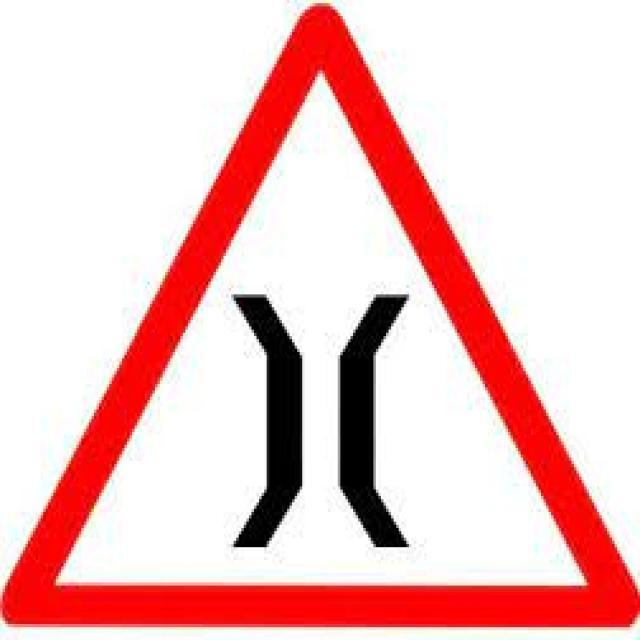narrow bridge ahead: (19, 21, 617, 619)
